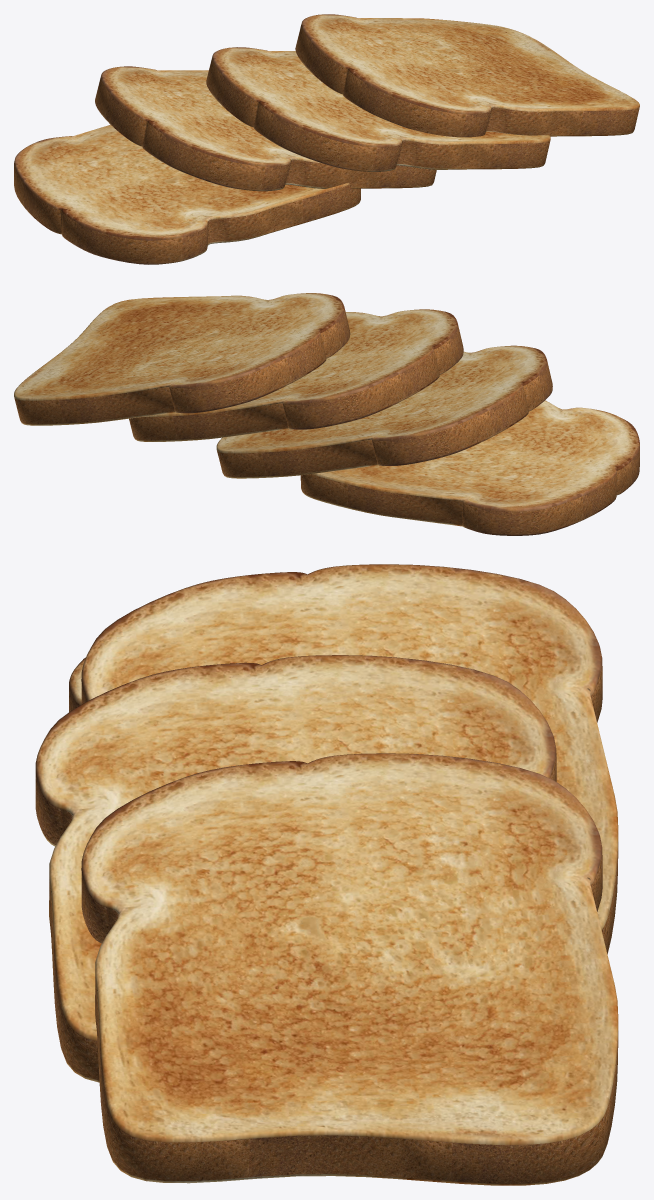
Rendered from sliced_bread.glb.
The picture shows the model from 3 angles, top to bottom: view 1: azimuth 30°, elevation 25°; view 2: azimuth 150°, elevation 25°; view 3: azimuth 270°, elevation 25°; orthographic projection. The views are drawn at different scales.
Visible parts, largest first — view 1: Line103, Line101, Line100, Line099; view 2: Line103, Line101, Line099, Line100; view 3: Line103, Line100, Line099.
Boxes of the visible parts, x1,y1,x2,y2 form: Line103: (295, 14, 639, 137); Line101: (14, 125, 360, 264); Line100: (206, 47, 550, 171); Line099: (95, 66, 436, 191); Line103: (14, 293, 350, 425); Line101: (300, 400, 639, 535); Line099: (216, 345, 552, 478); Line100: (129, 309, 463, 441); Line103: (81, 753, 618, 1185); Line100: (35, 655, 556, 1082); Line099: (81, 564, 618, 954).
Bounding box in the file's own units: 0.3561 × 0.0639 × 0.1646.
2 materials, 2 textured.
